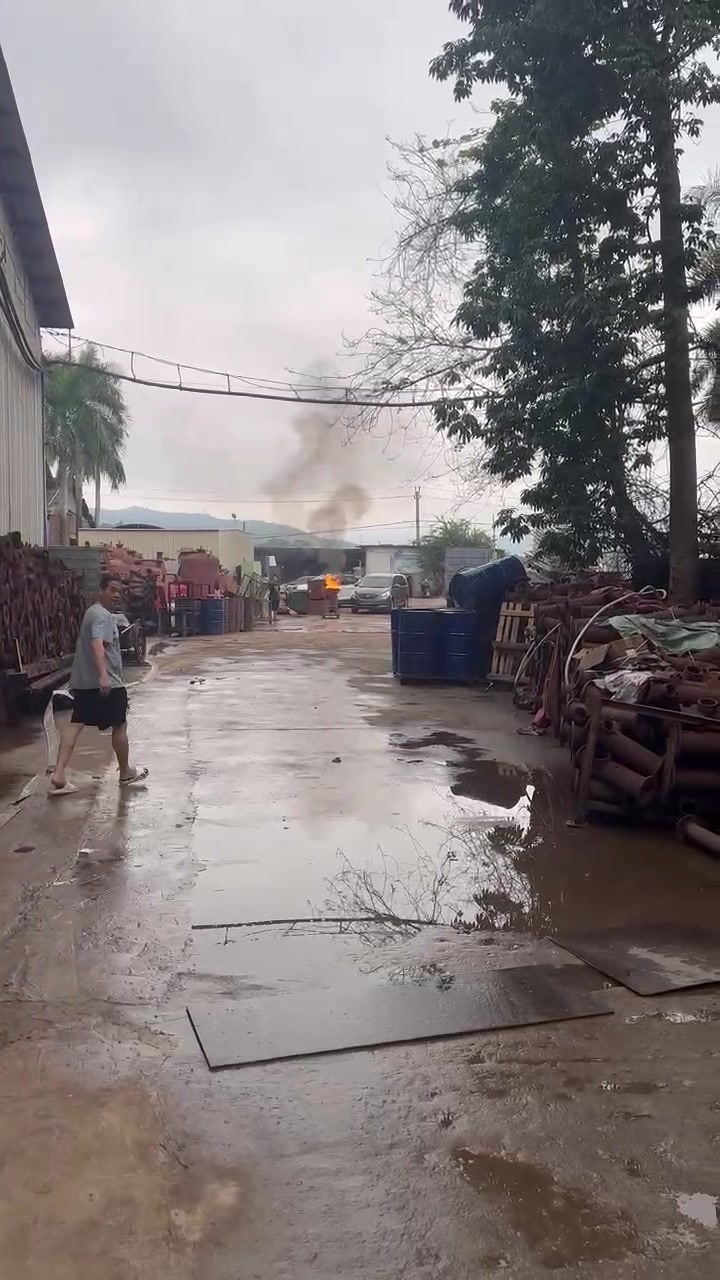fire: (325, 572, 339, 588)
